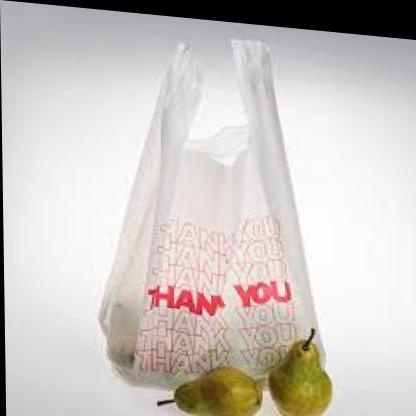trash: (99, 40, 331, 415)
